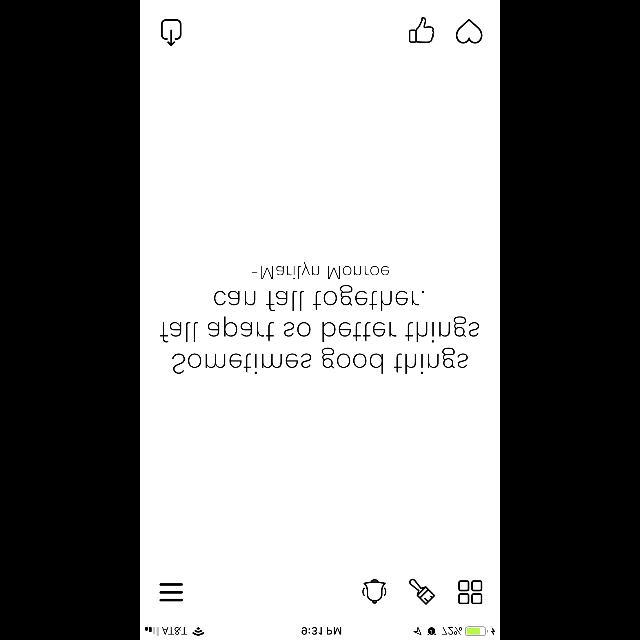icon: (456, 18, 482, 44), (362, 578, 386, 604), (458, 580, 482, 604), (162, 18, 182, 46), (159, 582, 183, 602)
image: (409, 578, 435, 604), (409, 17, 435, 43)
text: (160, 284, 480, 374), (252, 262, 390, 280)
uppertaskbar: (140, 626, 500, 640)
